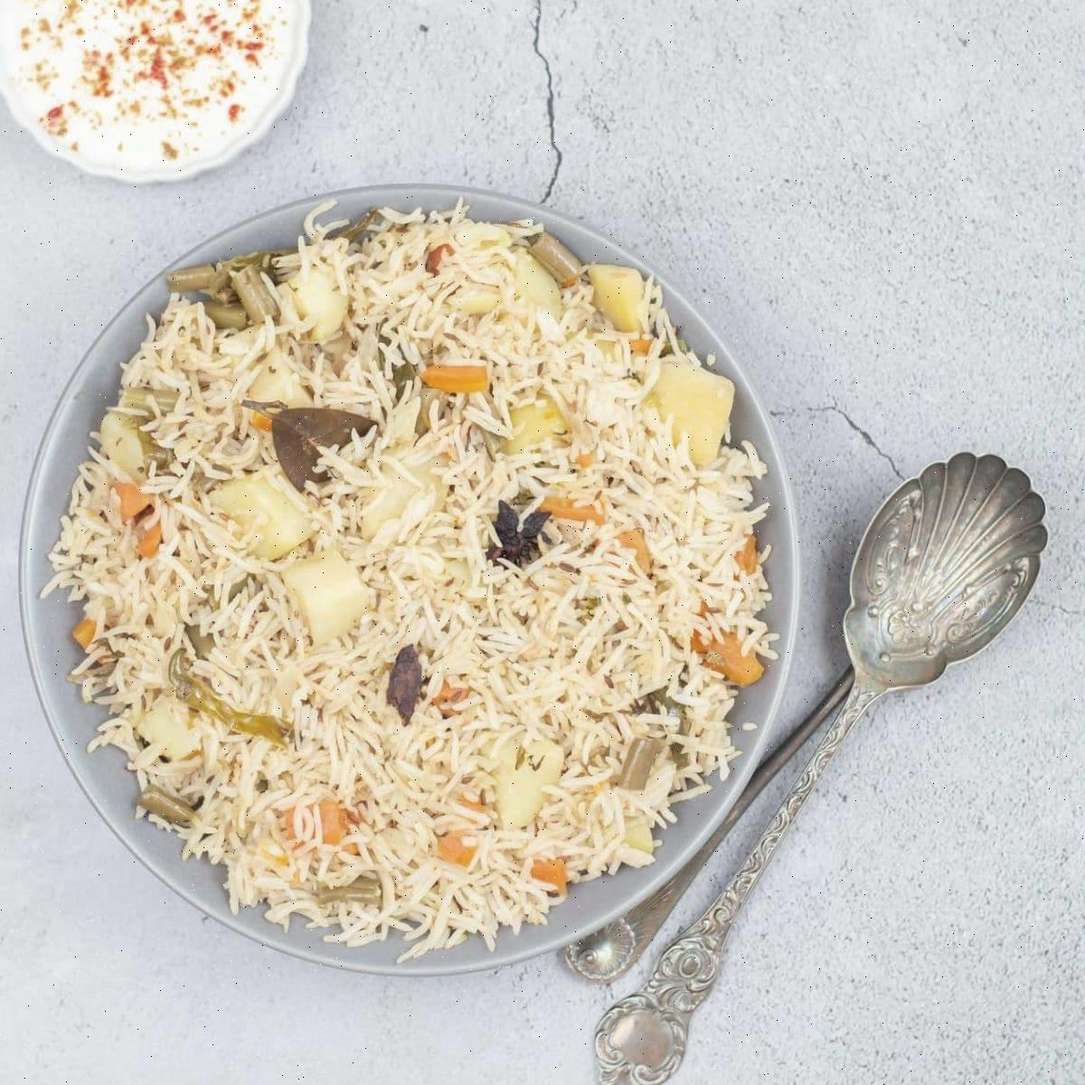veg-pulao: (97, 242, 738, 898)
yogurt: (0, 0, 260, 188)
